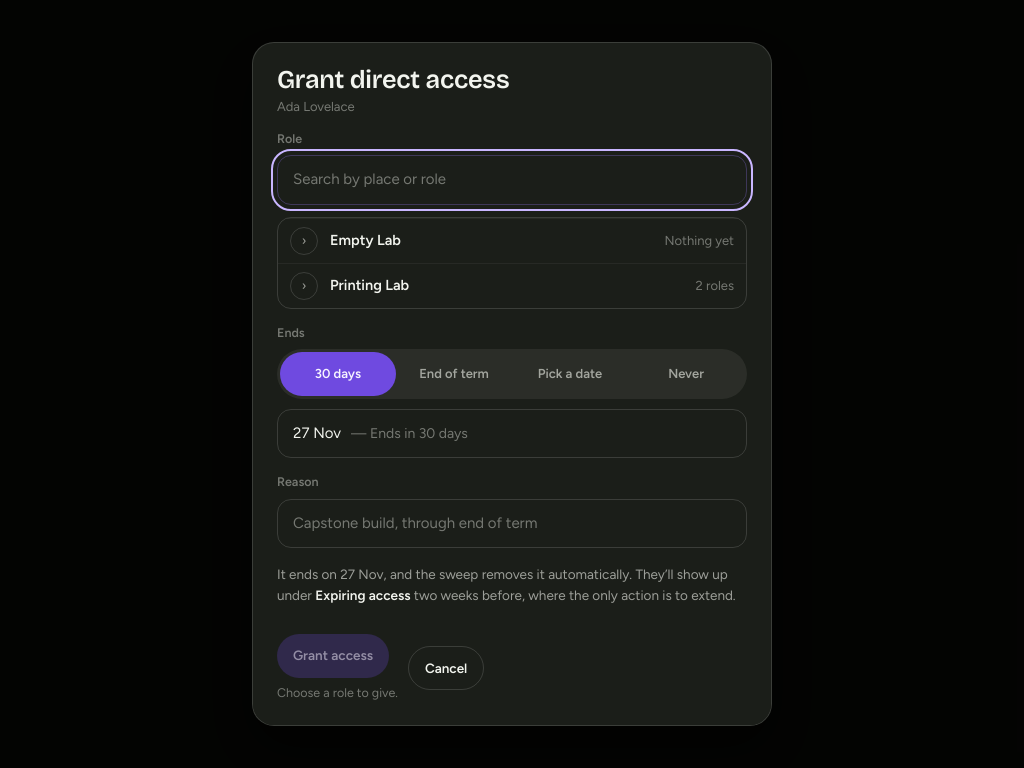
Scenario: GrantDirectAccess · choosing the role › a role given and not yet sent says so, with the way to send it
Step 1. Click the button "› Printing Lab 2 roles" → (370, 285), box x1=278 y1=264 x2=746 y2=308
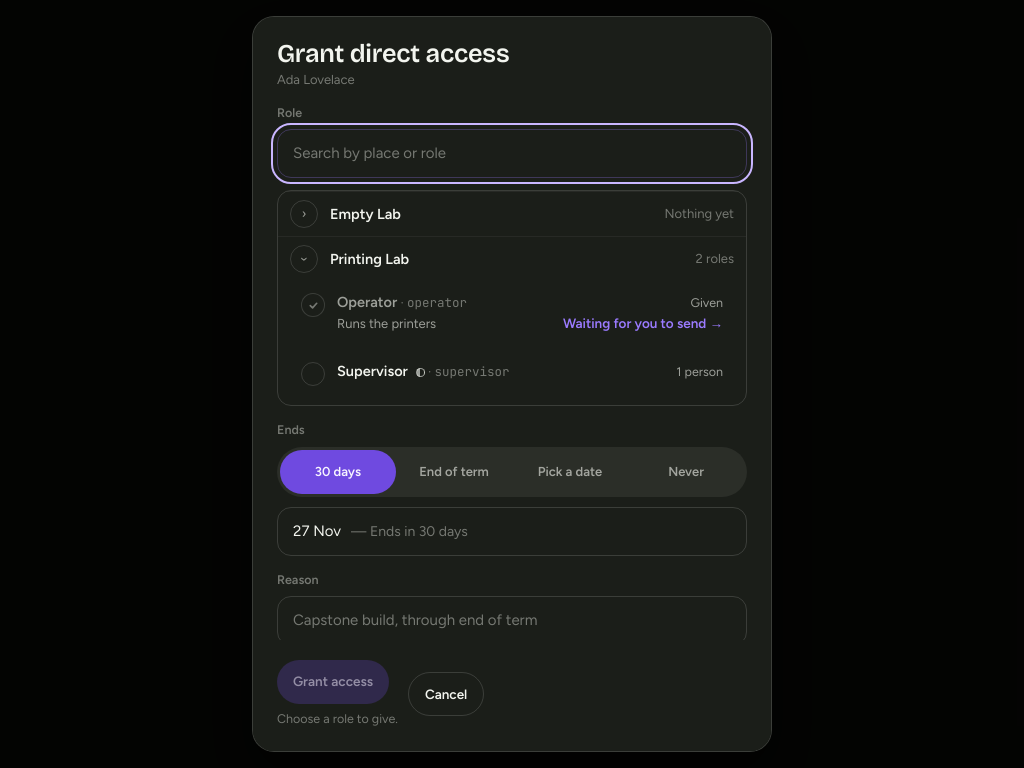
Check: the text "Given" is shown, box x1=690 y1=294 x2=723 y2=312
Check: the radio button labelled "Operator" is disabled, box x1=301 y1=293 x2=723 y2=331
